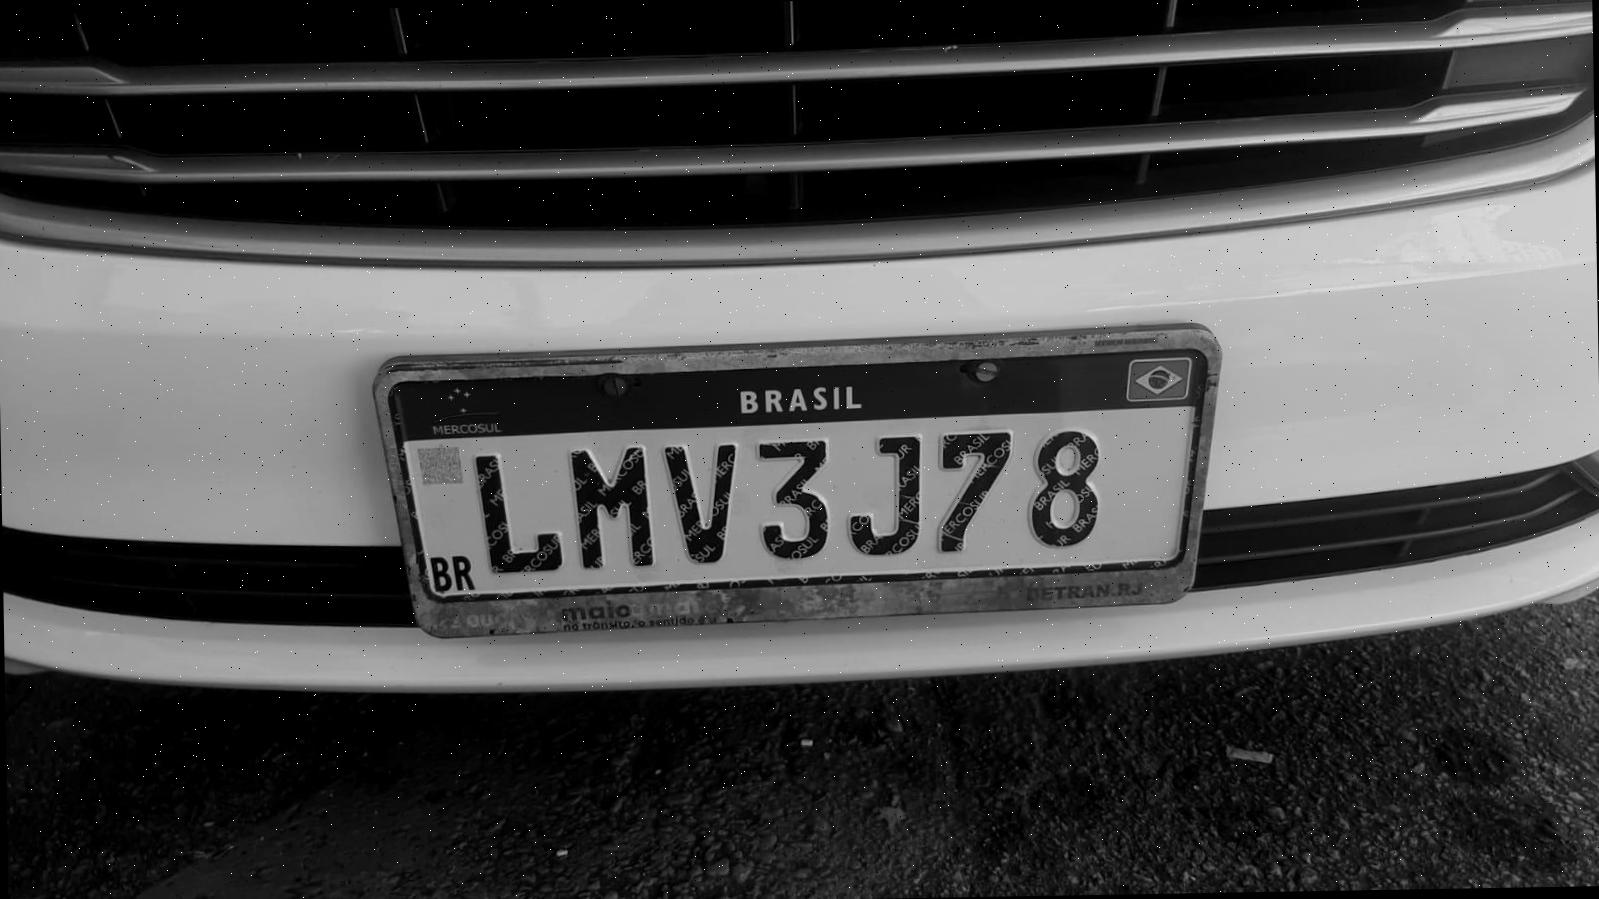placa_mercosul: (387, 330, 1212, 603)
